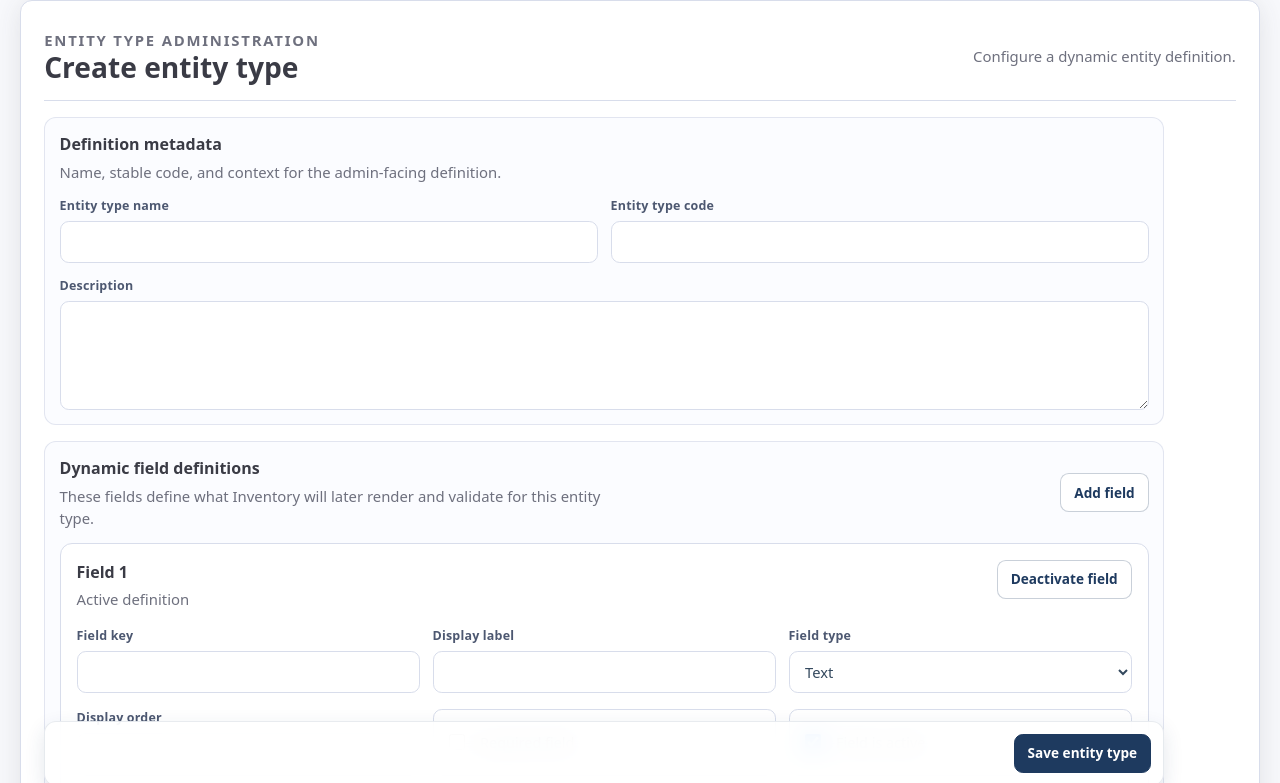
Test: EntityTypeForm › should validate required fields before submission
Click the button "Save entity type" at point(1082, 754), box [1014, 734, 1151, 773]
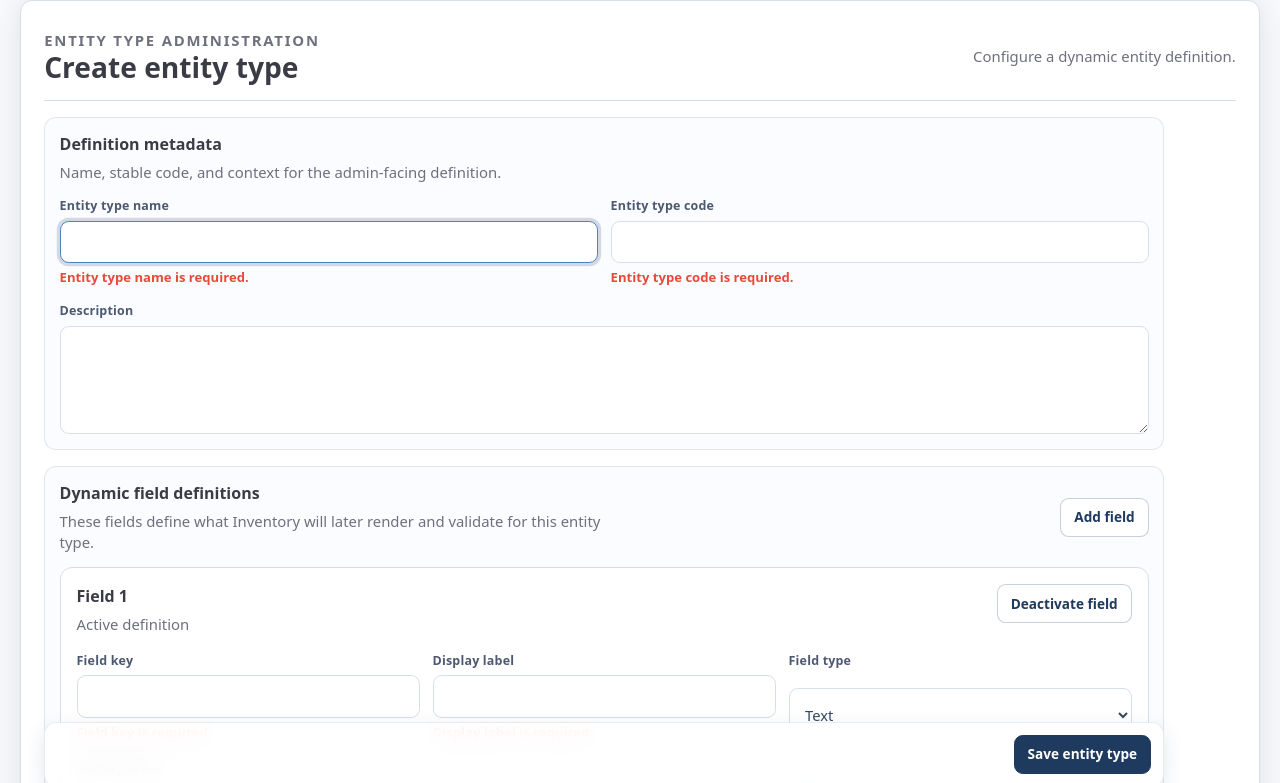
Check: the text "Entity type name is required." is shown, box [60, 268, 249, 286]
Check: the text "Entity type code is required." is shown, box [611, 268, 794, 286]
